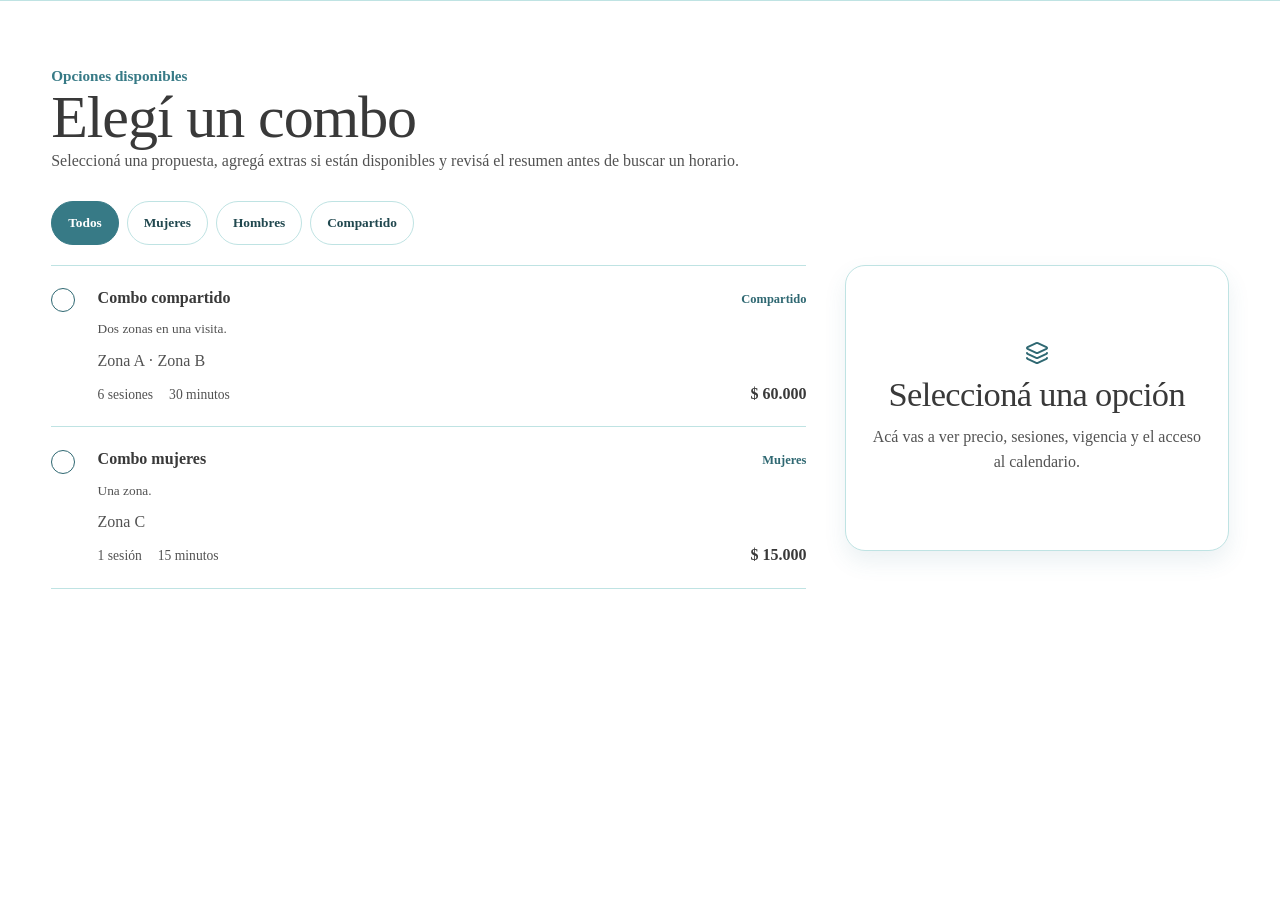
Test: TreatmentComboSelector › carries a mixed combo and authorized extras to the calendar with the updated quote
Step 1. Click the radio button labelled "Combo compartido" → (164, 297), box 51,266 -> 806,427
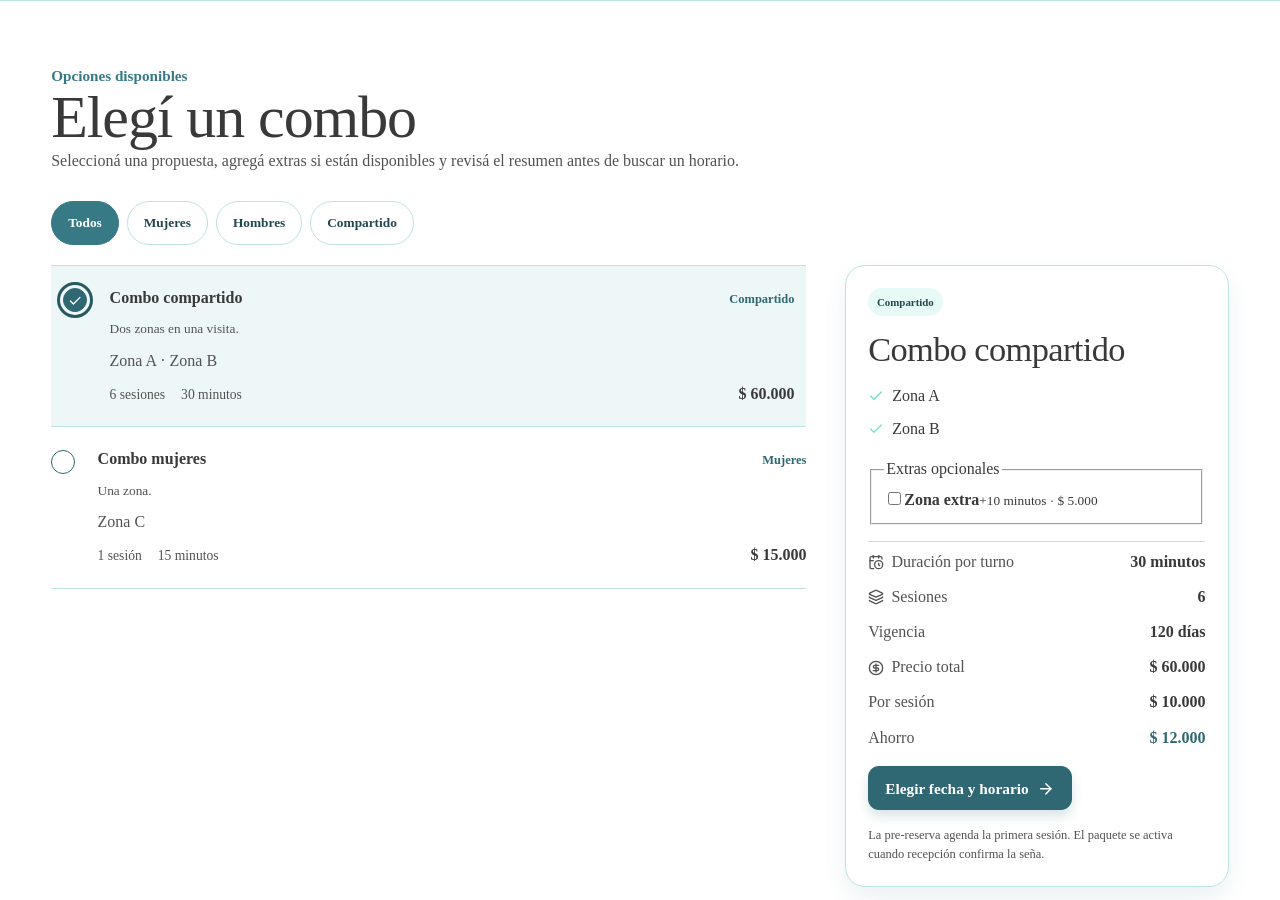
Step 2. Click the checkbox labelled "Zona extra+10 minutos · $ 5.000" → (895, 498), box 888,492 -> 901,505
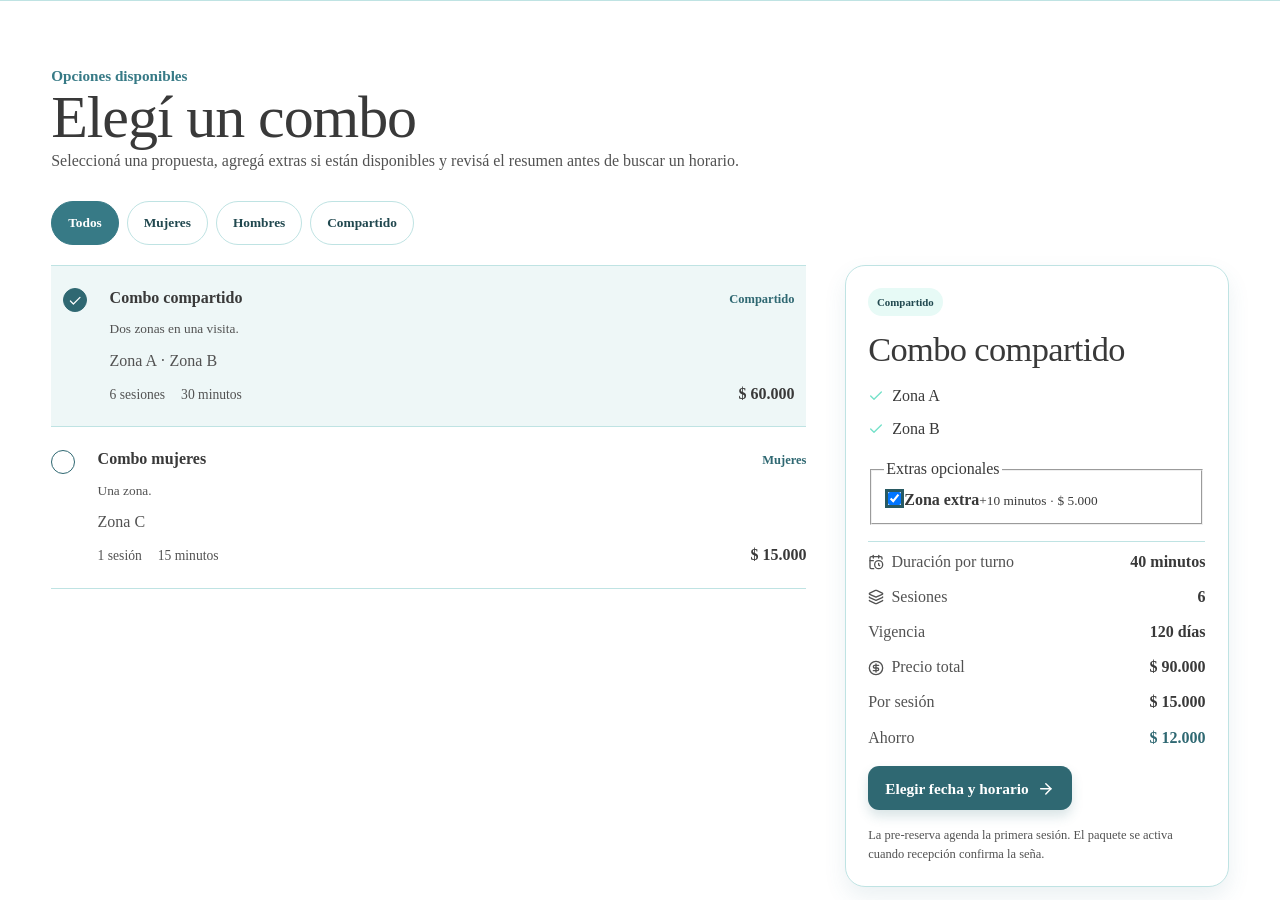
expect the text "$ 90.000" is shown: met, box 1149,655 -> 1205,680
expect the text "40 minutos" is shown: met, box 1130,550 -> 1205,574
